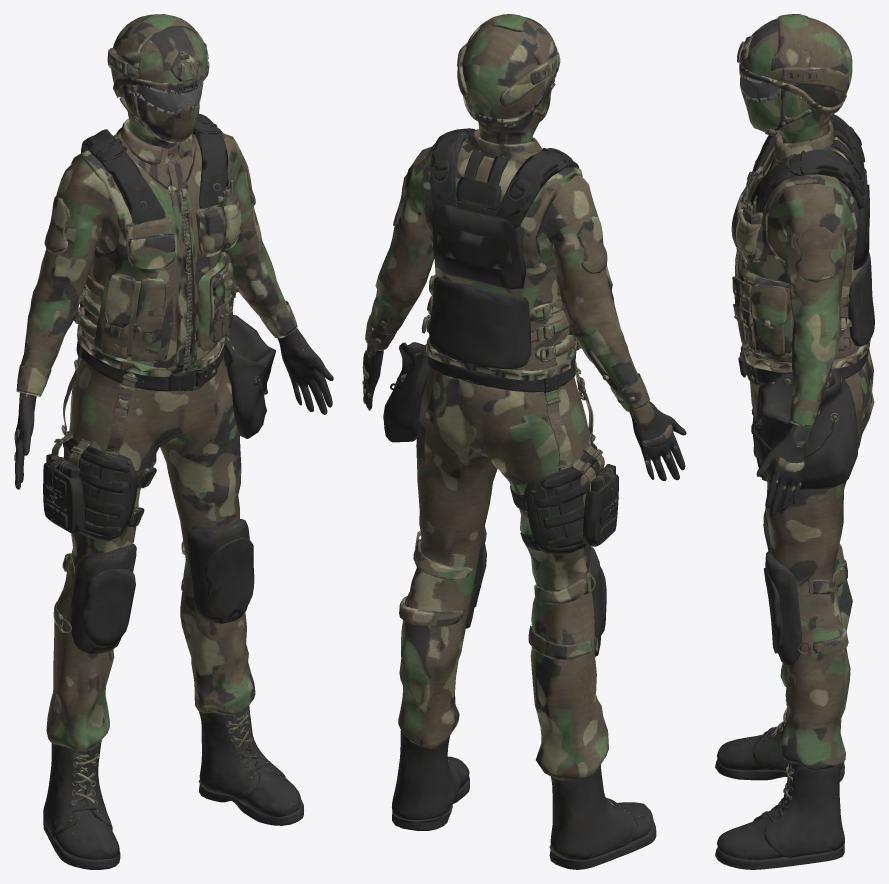
The model's file is swat.glb.
The picture shows the model from 3 angles, left to right: view 1: azimuth 30°, elevation 25°; view 2: azimuth 150°, elevation 25°; view 3: azimuth 270°, elevation 25°; orthographic projection. The views are drawn at different scales.
Parts seen in each view (by area): view 1: swat:Group65355; view 2: swat:Group65355; view 3: swat:Group65355.
Part boxes in pixels (left/top/right/bottom): swat:Group65355: left=14, top=14, right=333, bottom=869; swat:Group65355: left=362, top=14, right=686, bottom=869; swat:Group65355: left=715, top=14, right=874, bottom=869.
Bounding box in the file's own units: 0.0157 × 0.038 × 0.0069.
Materials: 1 (1 with a texture image).
